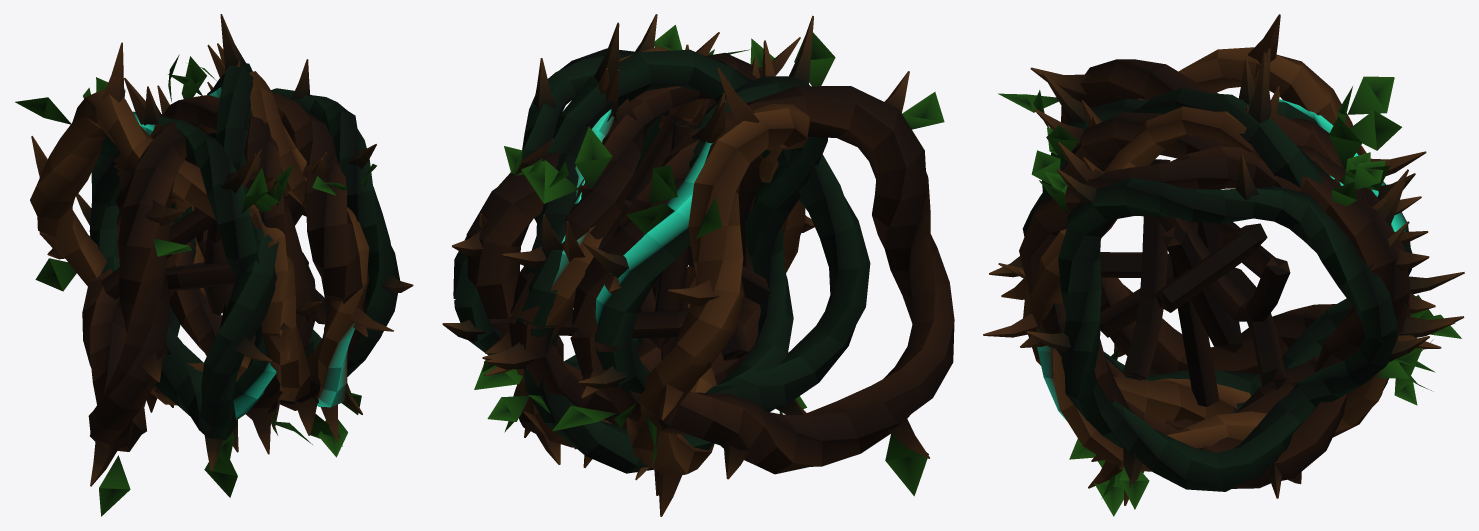
Rendered from SM_VineWheel_C.fbx.
3 renders of one model, left to right at view 1: azimuth 30°, elevation 25°; view 2: azimuth 150°, elevation 25°; view 3: azimuth 270°, elevation 25°, orthographic. The views are drawn at different scales.
Parts seen in each view (by area): view 1: SM_VineWheel_C; view 2: SM_VineWheel_C; view 3: SM_VineWheel_C.
Part boxes in pixels (x1=…): SM_VineWheel_C: x1=15, y1=14, x2=413, y2=516; SM_VineWheel_C: x1=442, y1=14, x2=954, y2=516; SM_VineWheel_C: x1=983, y1=14, x2=1464, y2=516.
Size of the model in its own units: 1.55 by 2.07 by 1.96.
